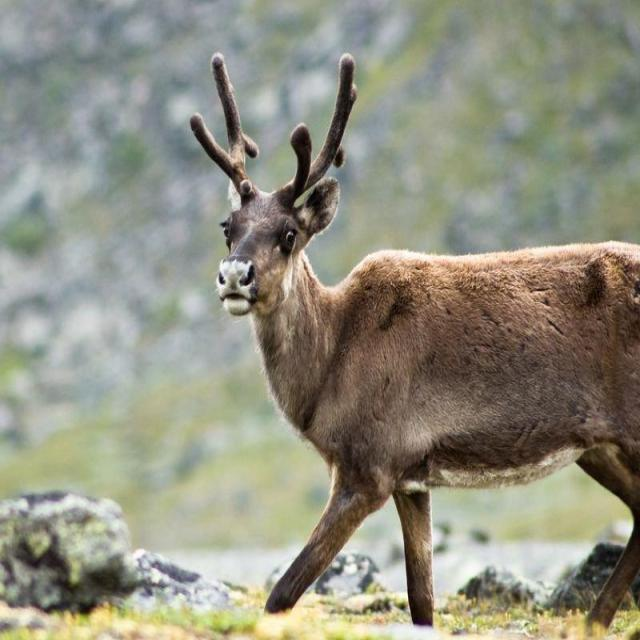Deer: (189, 54, 640, 613)
